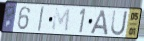1: (78, 8, 87, 35)
6: (17, 6, 31, 31)
A: (89, 9, 109, 37)
I: (36, 6, 45, 34)
M: (51, 7, 71, 34)
U: (110, 9, 129, 37)
